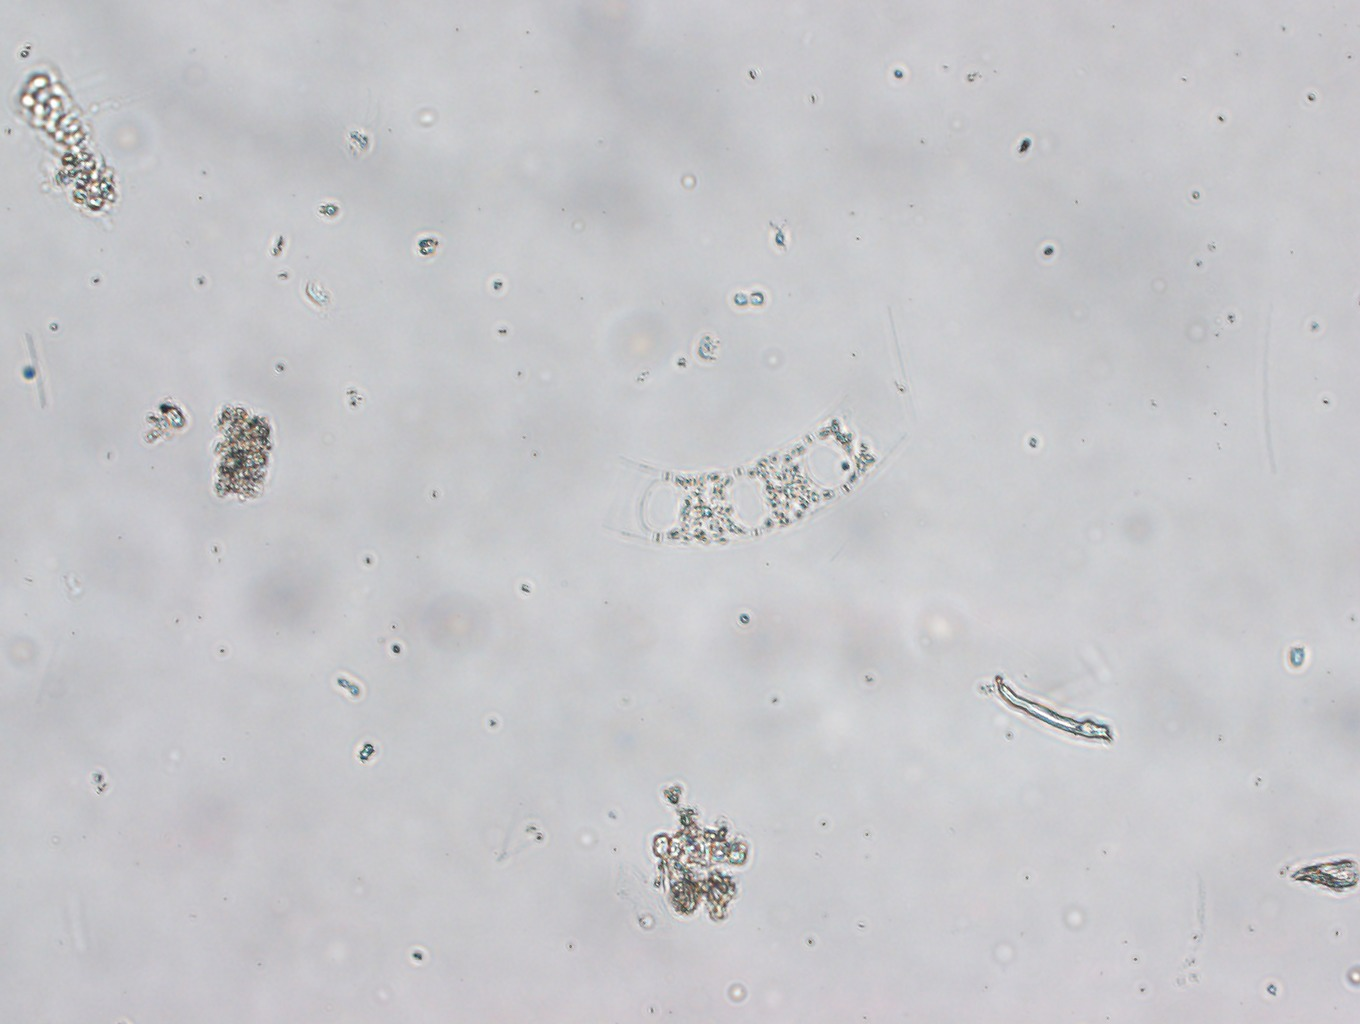eucampia: (609, 369, 897, 558)
